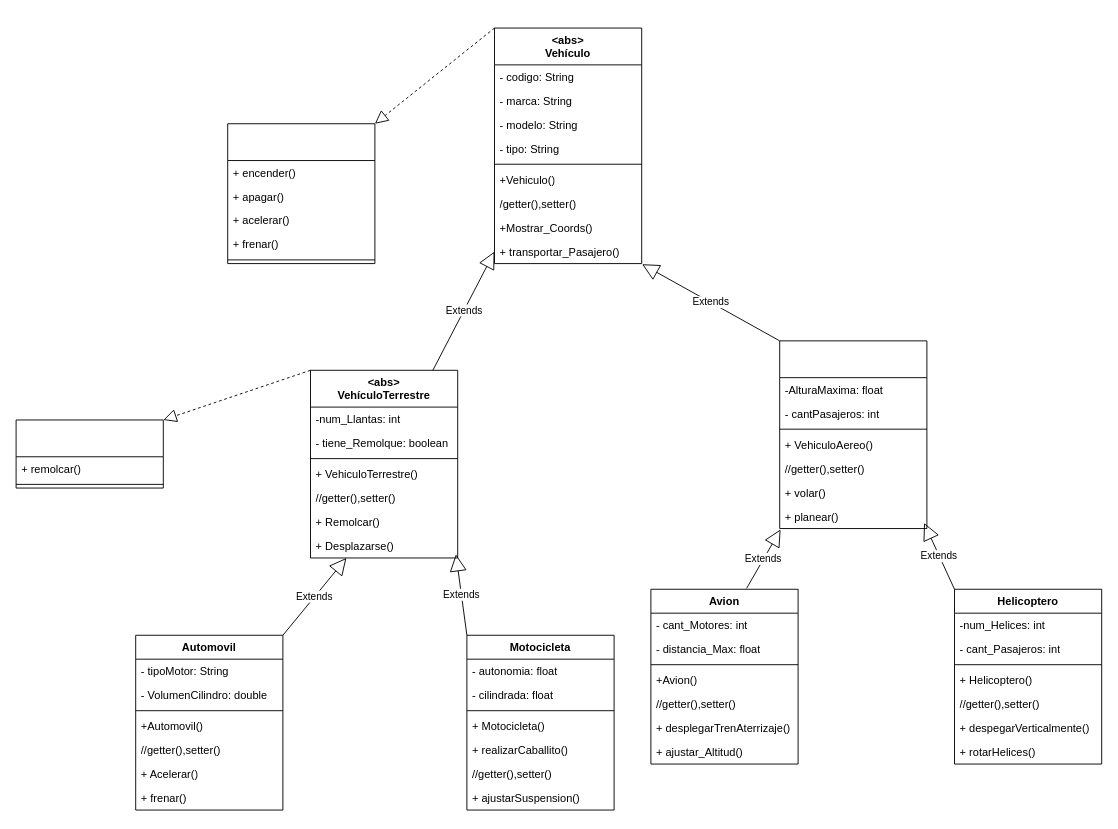
Some shapes in this 1118 by 829 pixel diagram are drawn without their labels. Each missing label, with the box of its shape:
<abs> VehiculoAereo: (779, 340, 927, 529)
<interface> IMotor: (227, 123, 375, 264)
<Interface> IRemolque: (15, 419, 163, 488)
